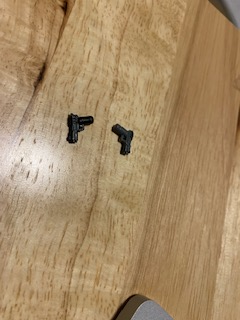pistol: (64, 111, 95, 147), (109, 120, 135, 159)
